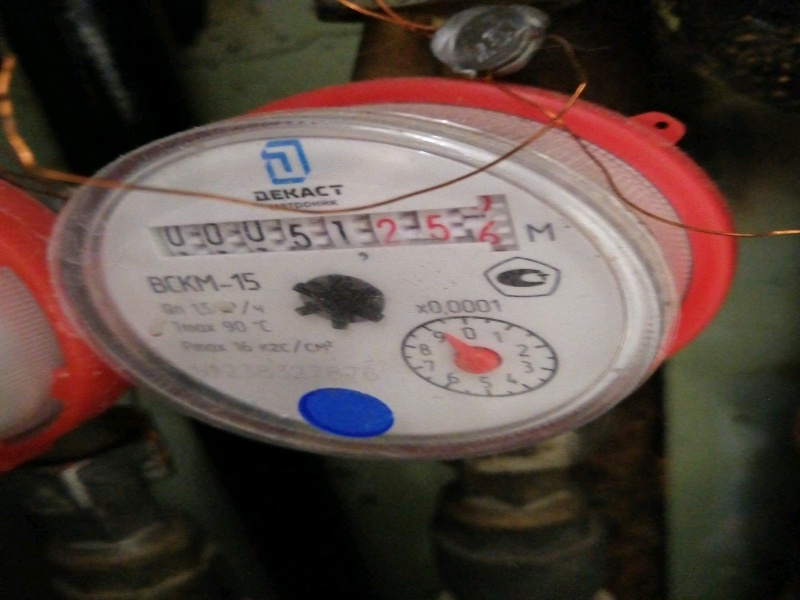meter: (148, 204, 513, 257)
